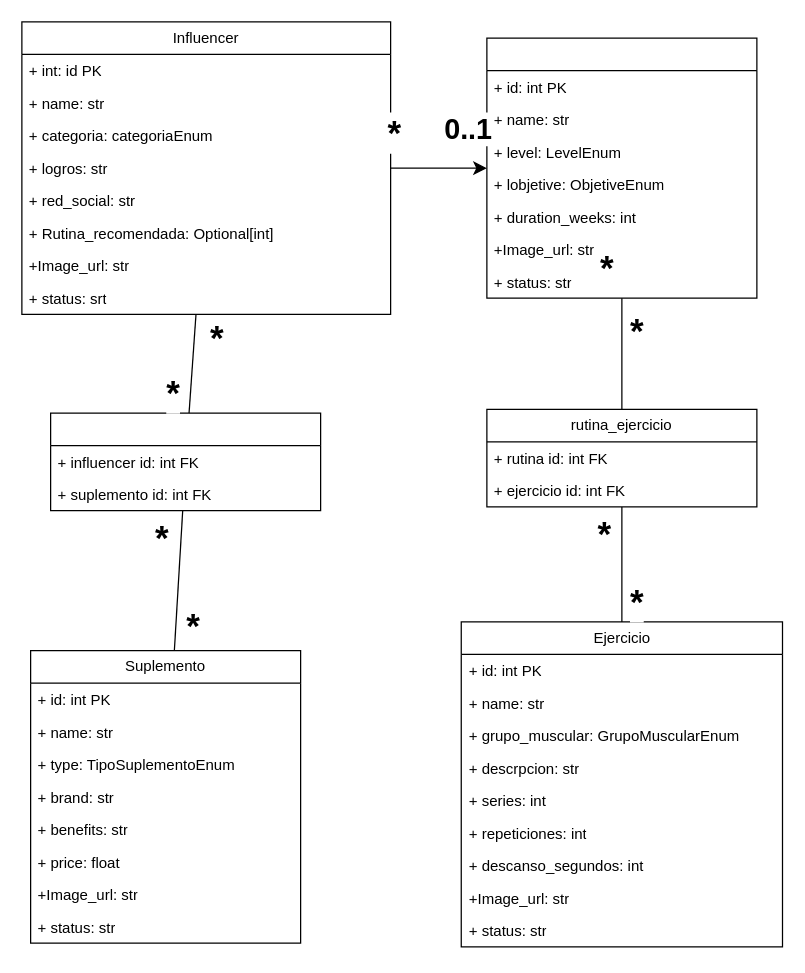
Some shapes in this 805 by 973 pixel diagram are drawn without their labels. The shapes that lost their labels are listed below. From the top down, each one's box as (x1, y1, x2, y2) in pixels, then its label:
(486, 37, 757, 298): Rutina
(49, 412, 321, 511): influencer_suplemento
